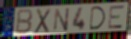4: (72, 6, 88, 32)
B: (14, 8, 34, 35)
D: (89, 5, 107, 31)
E: (107, 5, 125, 31)
N: (54, 7, 71, 32)
X: (34, 7, 53, 34)
